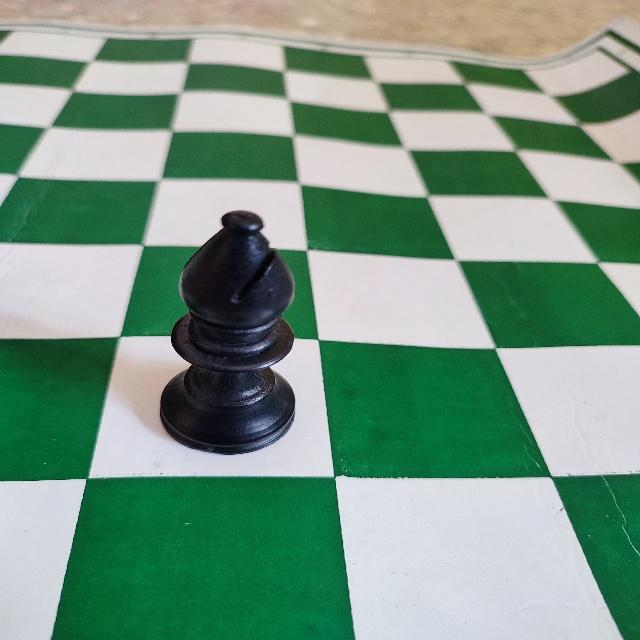Bishop: (155, 205, 303, 460)
